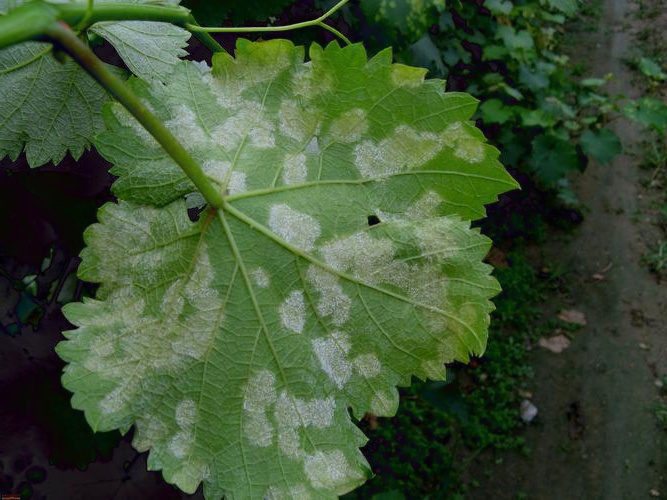Frost_Blight: (238, 201, 472, 442), (113, 49, 460, 174), (68, 218, 218, 429)
